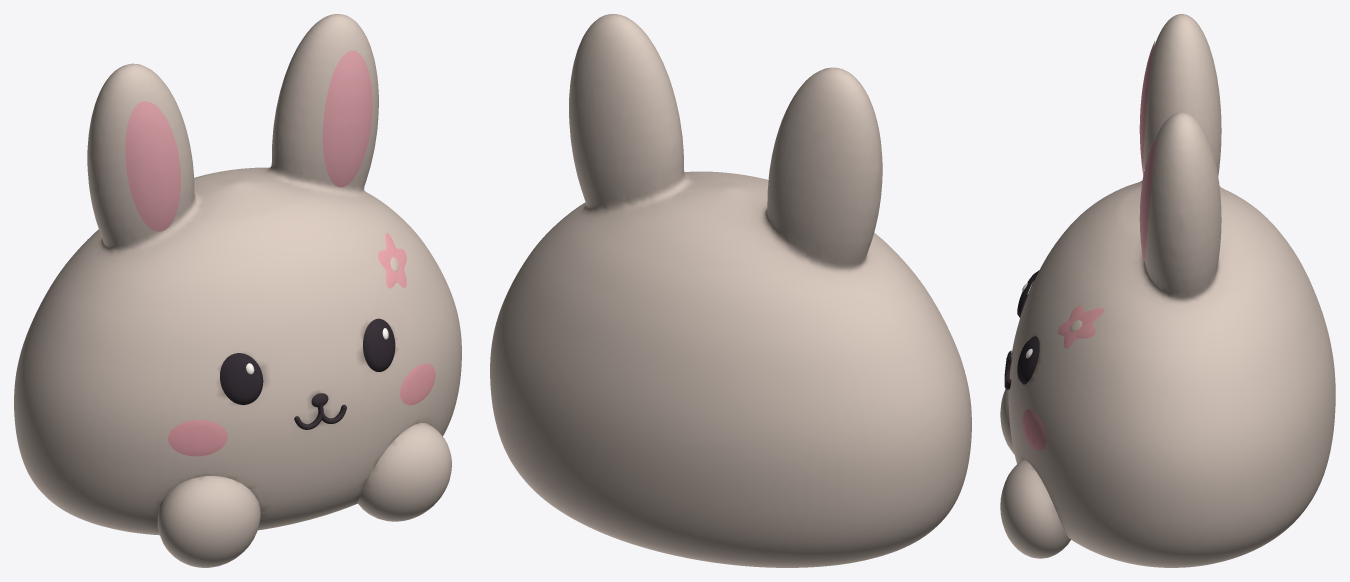
Rendered from animal-bunny.glb.
The picture shows the model from 3 angles, left to right: view 1: azimuth 30°, elevation 25°; view 2: azimuth 150°, elevation 25°; view 3: azimuth 270°, elevation 25°; orthographic projection. The views are drawn at different scales.
Visible parts, largest first — view 1: bunny Dough tint, bunny Animal accent, bunny Animal eyes, bunny Animal blush, bunny Animal detail, bunny Animal ink; view 2: bunny Dough tint; view 3: bunny Dough tint, bunny Animal accent, bunny Animal eyes, bunny Animal detail, bunny Animal blush.
Part boxes in pixels (left/top/right/bottom): bunny Dough tint: left=14, top=14, right=461, bottom=567; bunny Animal accent: left=125, top=50, right=372, bottom=231; bunny Animal eyes: left=220, top=318, right=395, bottom=404; bunny Animal blush: left=168, top=363, right=435, bottom=456; bunny Animal detail: left=378, top=233, right=406, bottom=288; bunny Animal ink: left=294, top=393, right=346, bottom=429; bunny Dough tint: left=490, top=14, right=971, bottom=567; bunny Dough tint: left=1000, top=14, right=1335, bottom=567; bunny Animal accent: left=1139, top=41, right=1154, bottom=262; bunny Animal eyes: left=1017, top=270, right=1039, bottom=384; bunny Animal detail: left=1057, top=305, right=1104, bottom=348; bunny Animal blush: left=1022, top=409, right=1046, bottom=450.
Bounding box in the file's own units: 1.24 × 1.28 × 0.8781.
